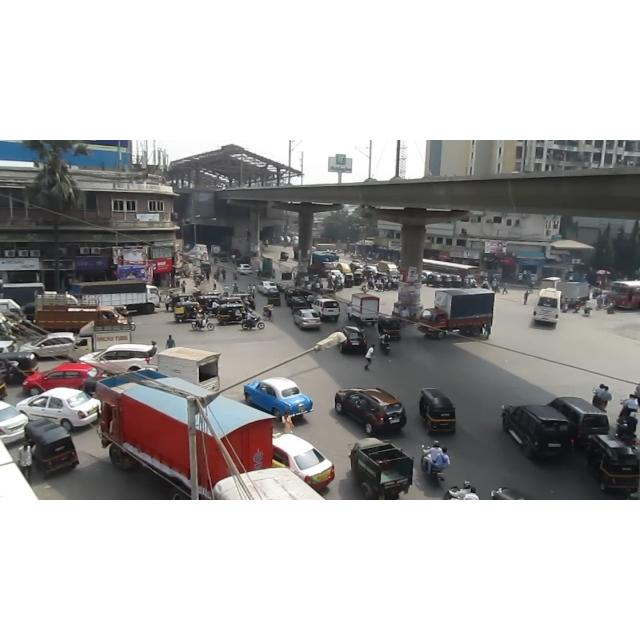auto: (584, 426, 640, 500), (22, 419, 86, 479), (416, 384, 464, 440), (217, 300, 255, 328), (381, 312, 405, 344), (172, 300, 204, 322), (267, 292, 283, 308)
car: (242, 368, 320, 424)
truck: (94, 369, 274, 499), (349, 438, 413, 500), (417, 289, 495, 339), (34, 294, 128, 332), (70, 279, 161, 314), (157, 346, 221, 391), (69, 321, 132, 359), (346, 293, 380, 325), (0, 282, 44, 306), (556, 281, 589, 307), (308, 251, 340, 277), (275, 266, 295, 292), (377, 260, 399, 277), (207, 244, 226, 259)
